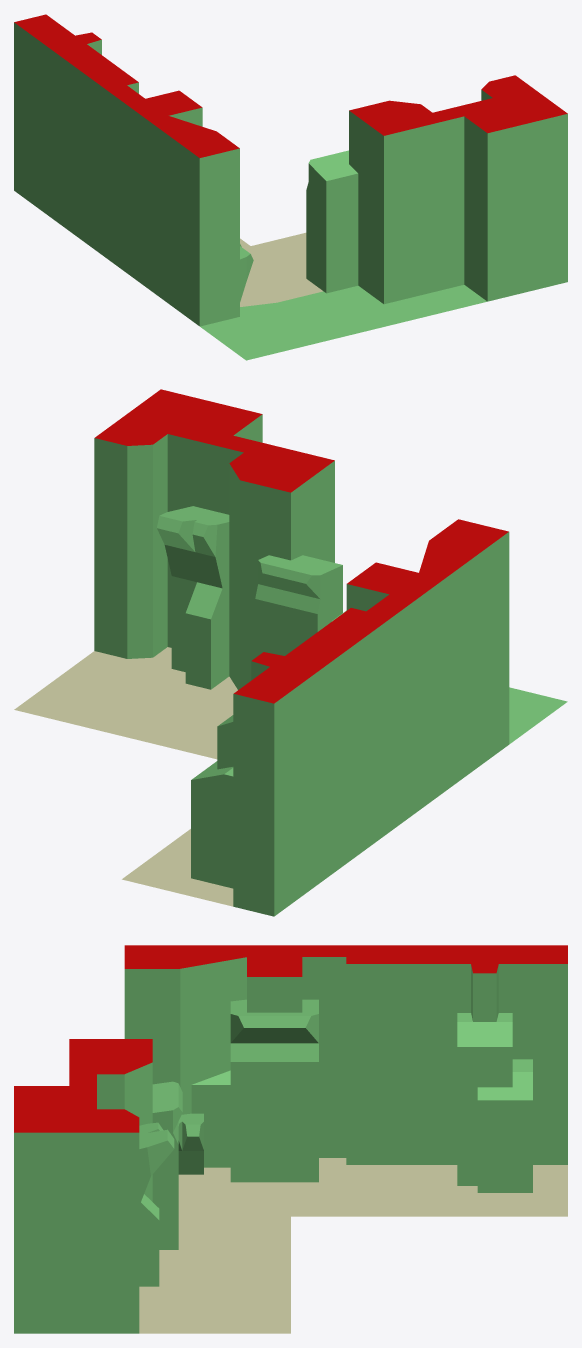
File: x_oo_ground_53_wall1_rmstrd.fbx
The picture shows the model from 3 angles, top to bottom: view 1: azimuth 30°, elevation 25°; view 2: azimuth 150°, elevation 25°; view 3: azimuth 270°, elevation 25°; orthographic projection. The views are drawn at different scales.
Parts seen in each view (by area): view 1: x_oo_ground_53_wall1_rmstrd1; view 2: x_oo_ground_53_wall1_rmstrd1; view 3: x_oo_ground_53_wall1_rmstrd1.
Part boxes in pixels (x1,y1,x2,y2): x_oo_ground_53_wall1_rmstrd1: (14, 14, 567, 360); x_oo_ground_53_wall1_rmstrd1: (14, 389, 567, 916); x_oo_ground_53_wall1_rmstrd1: (14, 945, 567, 1333).
Size of the model in its own units: 8 by 4 by 10.
